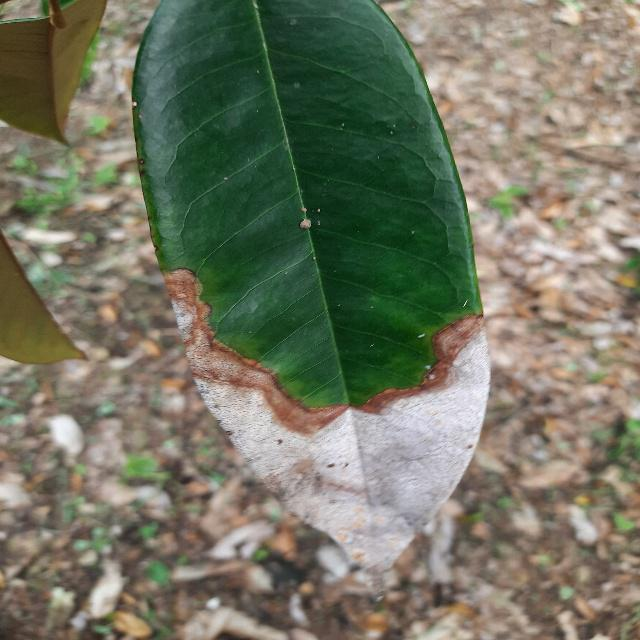Leaf Blight: (127, 0, 499, 584)
